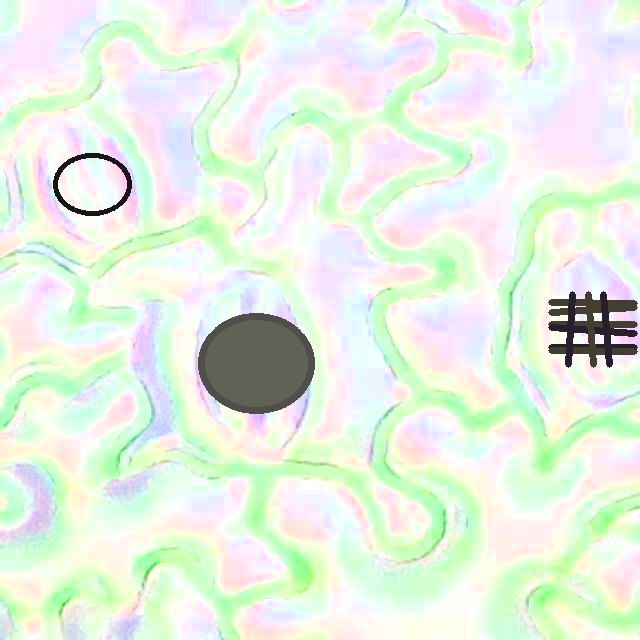close: (548, 291, 637, 367), (53, 151, 131, 216)
open: (198, 313, 313, 413)
